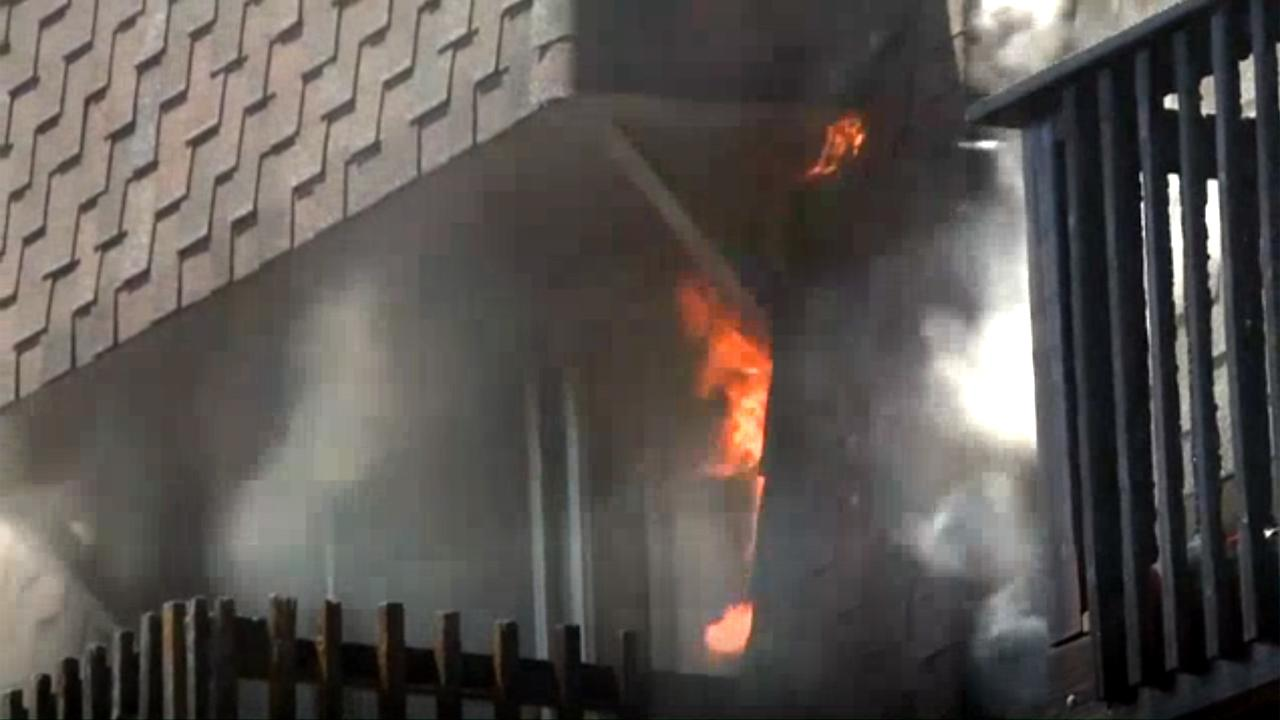Fire: (677, 253, 792, 677), (814, 108, 865, 192)
